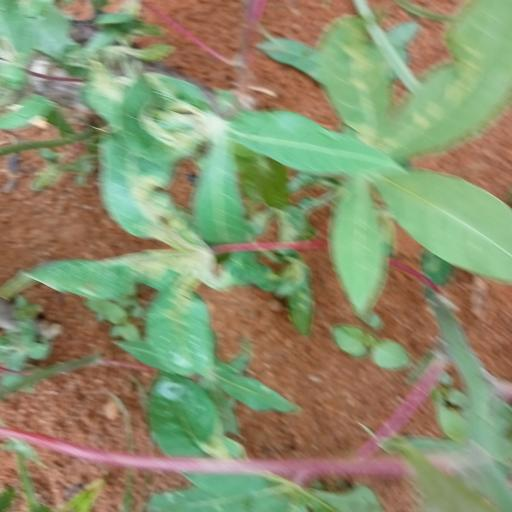Cassava_Mosaic: (246, 7, 512, 293)
